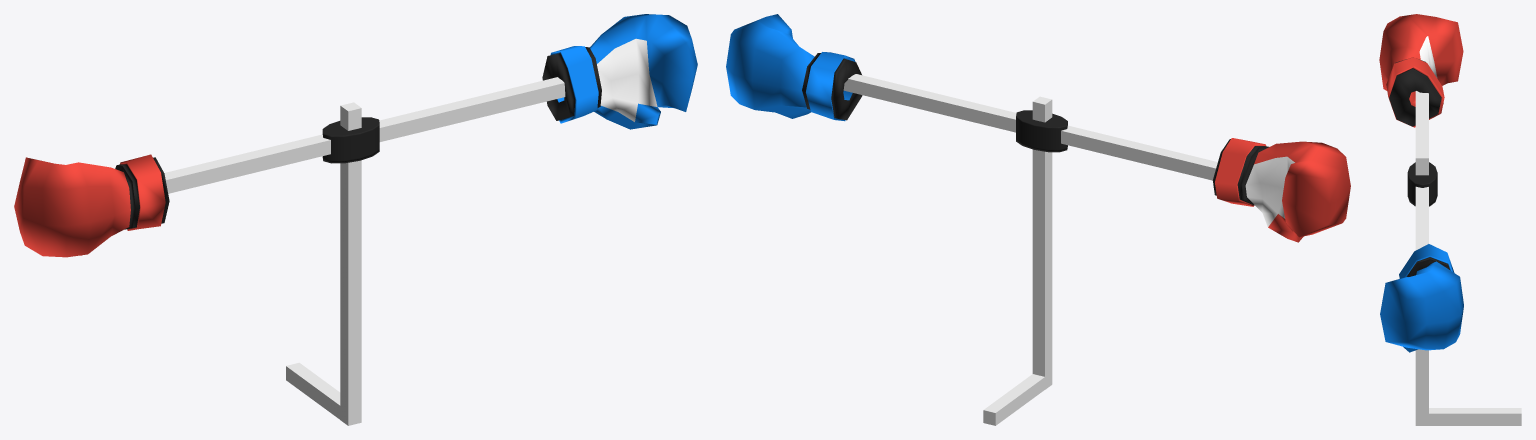
Rendered from Boxing_Gloves Left (1).fbx.
3 views of the same model, side by side, from view 1: azimuth 30°, elevation 25°; view 2: azimuth 150°, elevation 25°; view 3: azimuth 270°, elevation 25° (orthographic). The views are drawn at different scales.
Parts seen in each view (by area): view 1: Punching_Glove_Blue, Punching_Glove_Red, Rotation_Support, Extended_Hook, Ground_Hook; view 2: Punching_Glove_Red, Punching_Glove_Blue, Rotation_Support, Extended_Hook, Ground_Hook; view 3: Punching_Glove_Red, Punching_Glove_Blue, Rotation_Support, Ground_Hook, Extended_Hook.
Boxes of the visible parts, bbox=[...] form: Punching_Glove_Blue: bbox=[542, 14, 697, 129]; Punching_Glove_Red: bbox=[14, 154, 169, 257]; Rotation_Support: bbox=[164, 77, 565, 193]; Extended_Hook: bbox=[340, 102, 361, 425]; Ground_Hook: bbox=[286, 362, 340, 419]; Punching_Glove_Red: bbox=[1212, 138, 1350, 242]; Punching_Glove_Blue: bbox=[726, 14, 862, 121]; Rotation_Support: bbox=[843, 74, 1217, 180]; Extended_Hook: bbox=[1032, 96, 1052, 389]; Ground_Hook: bbox=[983, 374, 1044, 425]; Punching_Glove_Red: bbox=[1379, 14, 1463, 127]; Punching_Glove_Blue: bbox=[1380, 244, 1463, 352]; Rotation_Support: bbox=[1407, 91, 1437, 250]; Ground_Hook: bbox=[1429, 408, 1521, 425]; Extended_Hook: bbox=[1415, 152, 1428, 425].
Bounding box in the file's own units: 422 × 200 × 90.88.
Materials: 1 (1 with a texture image).
